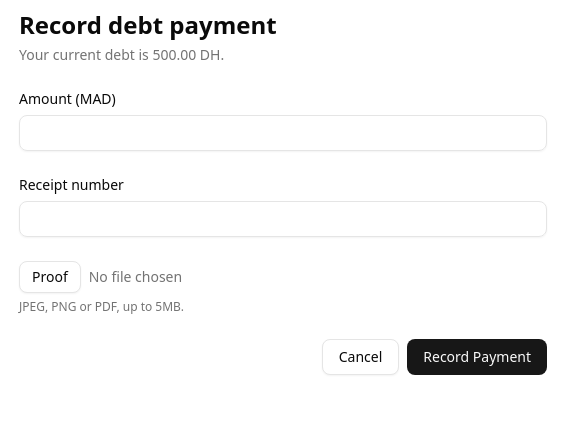
validation › shows a required error for every field on an empty submit
Expected: the text "Your current debt is 500.00 DH." is shown, [19,45,224,64]
Step 1. Click the button "Record Payment" → (477, 357), box [407,339,547,375]
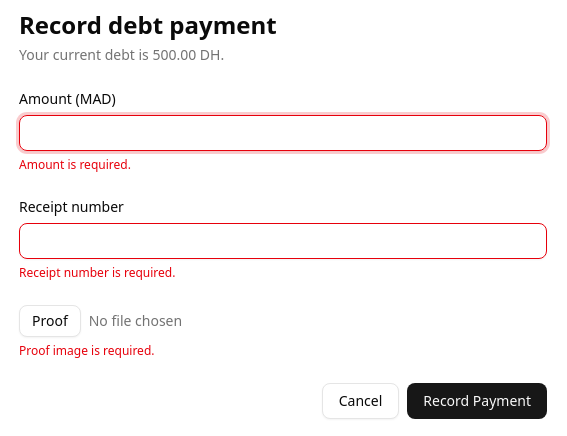
Expected: the text "Amount is required." is shown, [19,156,131,173]
Expected: the text "Receipt number is required." is shown, [19,264,175,281]
Expected: the text "Proof image is required." is shown, [19,342,154,359]
